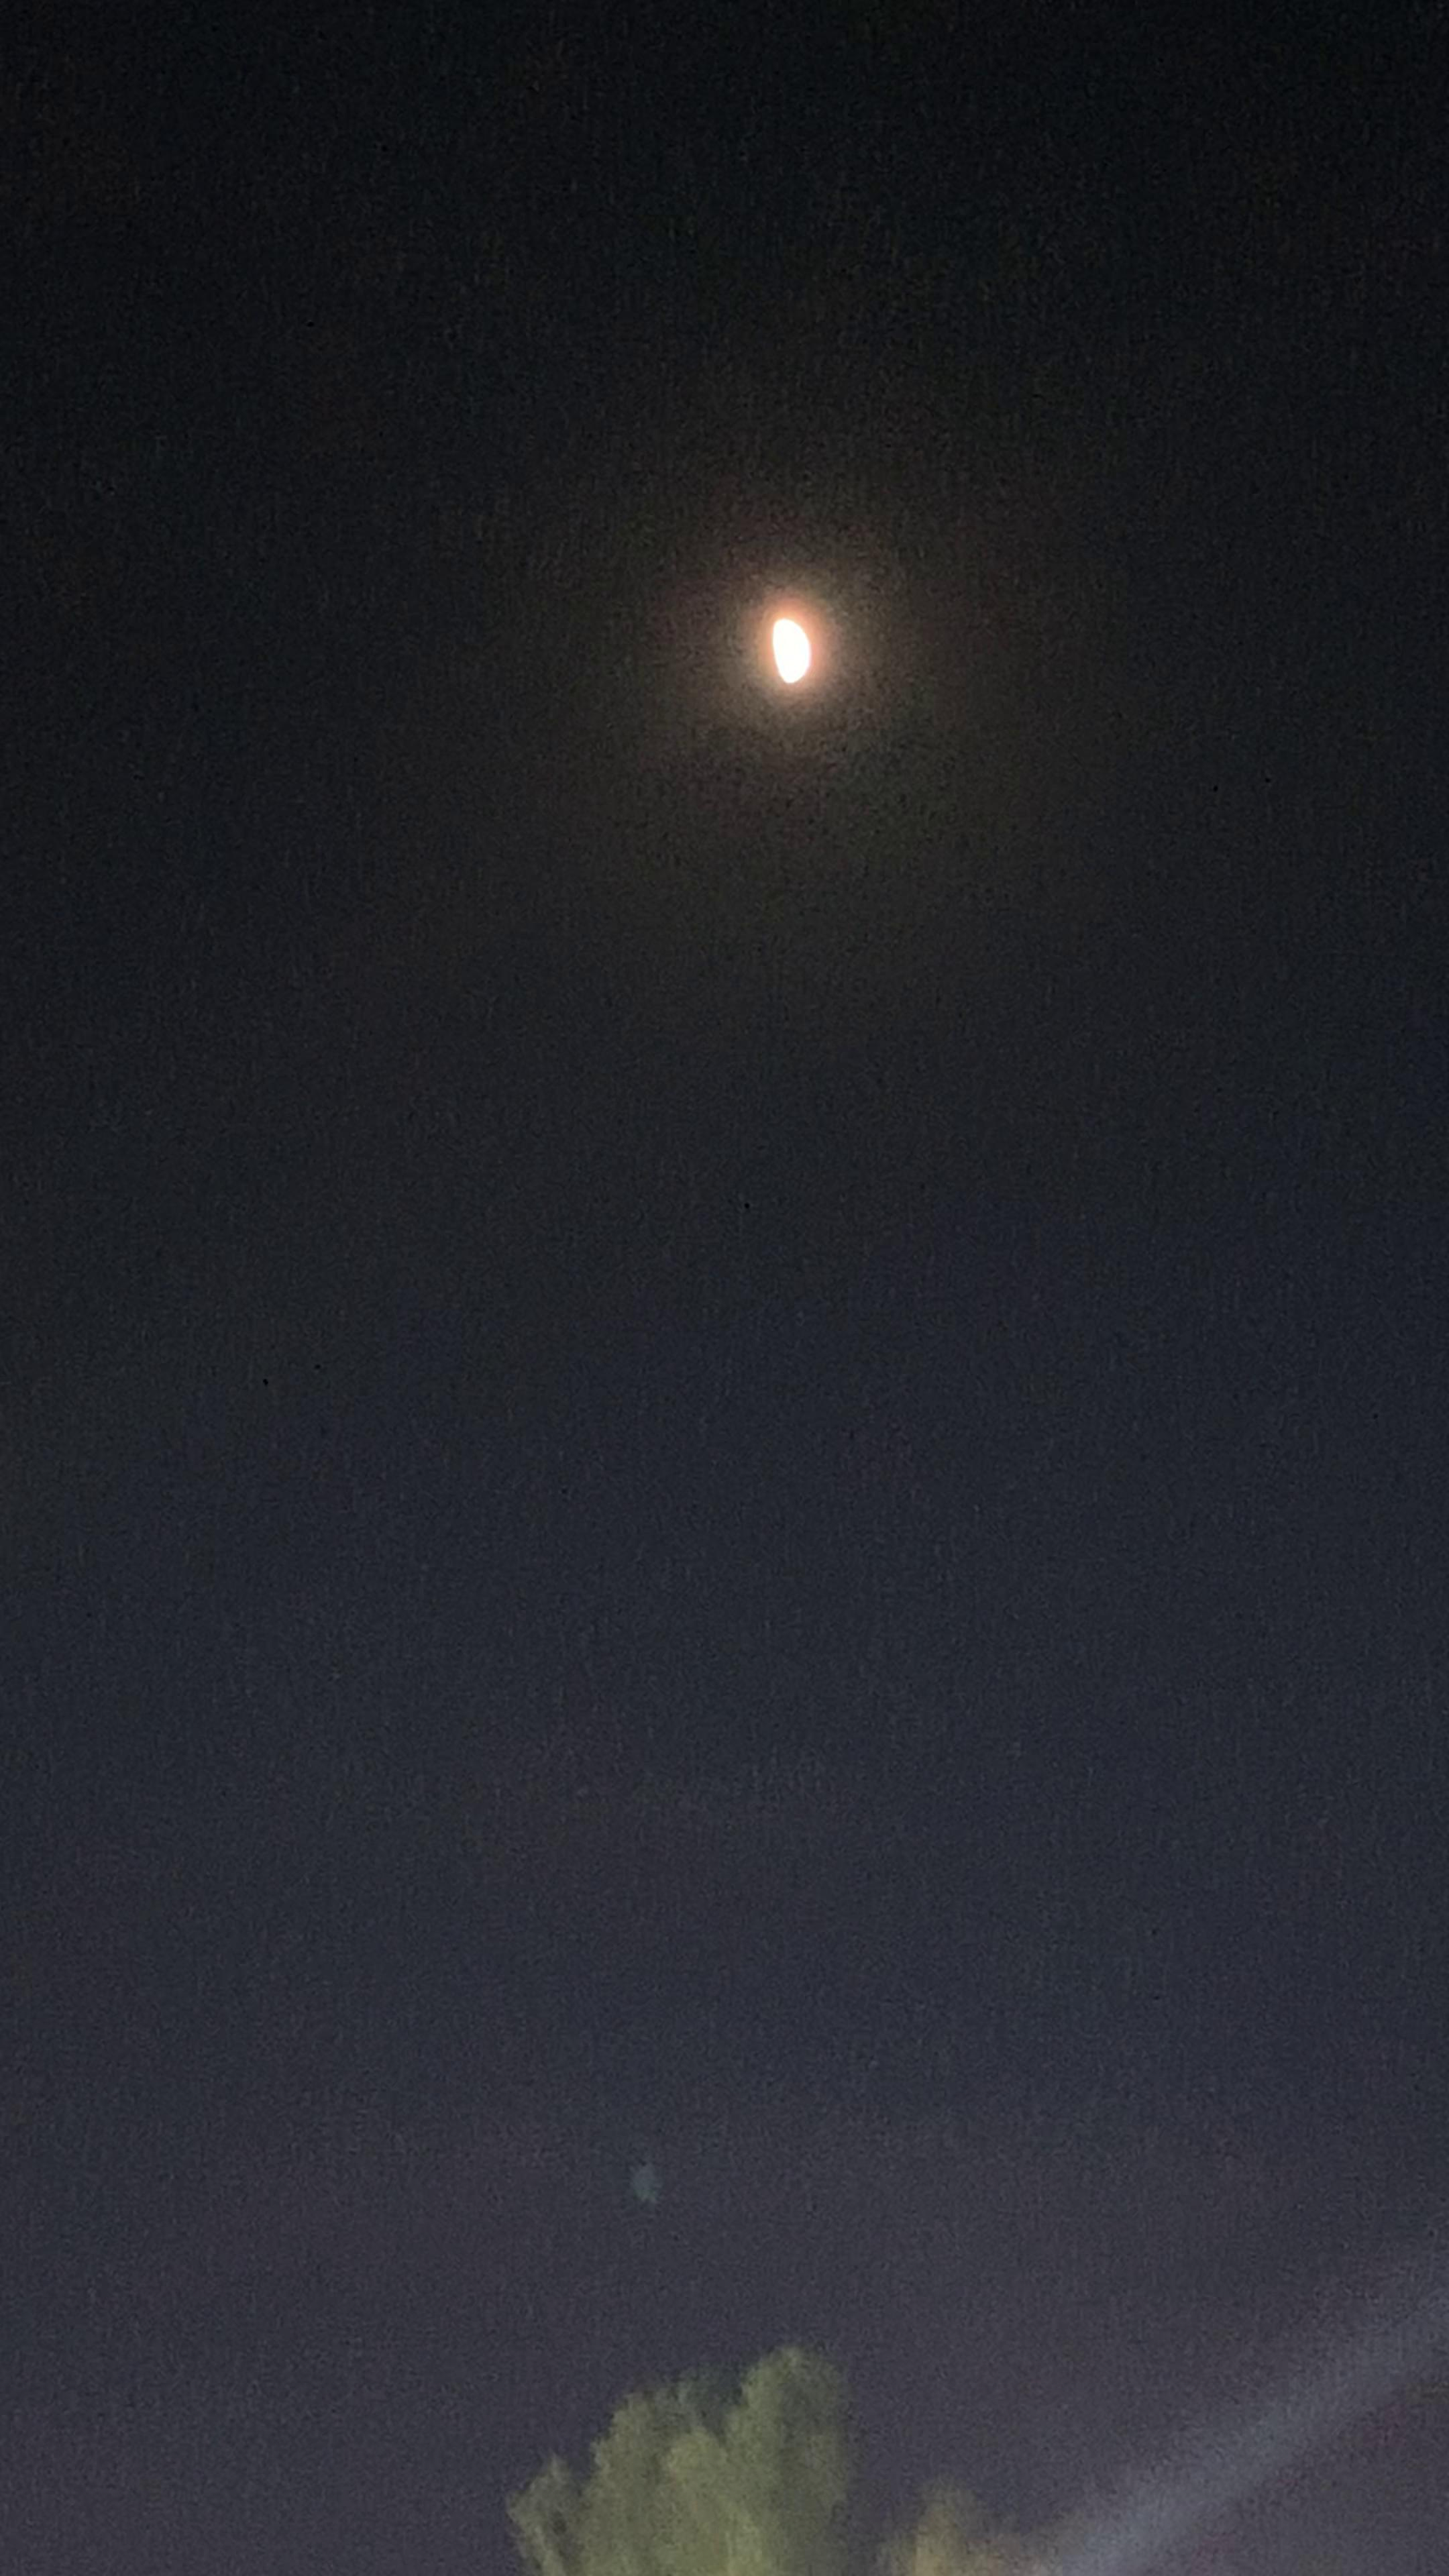moon: (711, 577, 872, 724)
